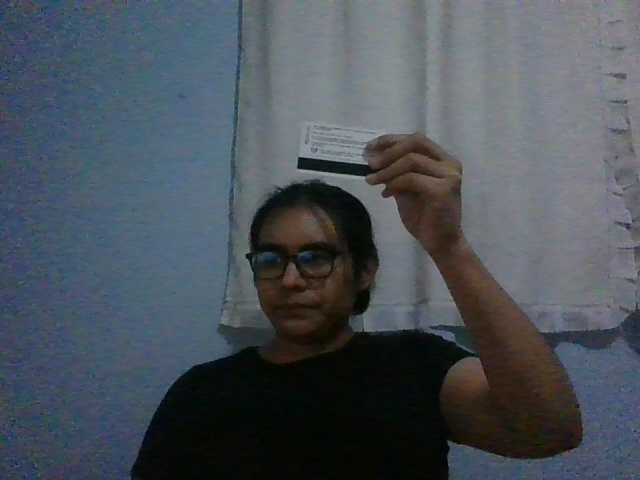tarjeta: (295, 122, 388, 180)
